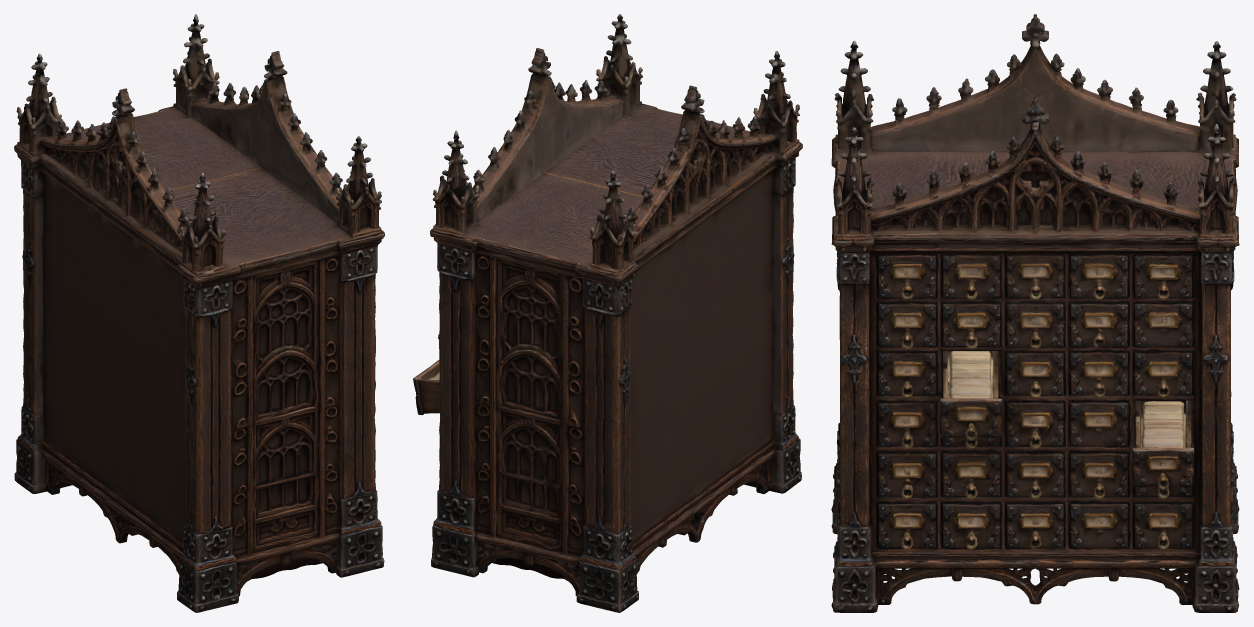
File: raw_shelf_drawers.glb
3 views of the same model, side by side, from view 1: azimuth 30°, elevation 25°; view 2: azimuth 150°, elevation 25°; view 3: azimuth 270°, elevation 25° (orthographic). The views are drawn at different scales.
Visible parts, largest first — view 1: shelf_drawers; view 2: shelf_drawers; view 3: shelf_drawers.
Part boxes in pixels (left/top/right/bottom): shelf_drawers: left=14, top=14, right=384, bottom=612; shelf_drawers: left=413, top=14, right=802, bottom=612; shelf_drawers: left=831, top=14, right=1239, bottom=612.
Bounding box in the file's own units: 0.5354 × 0.9999 × 0.7324.
1 material, 1 textured.
